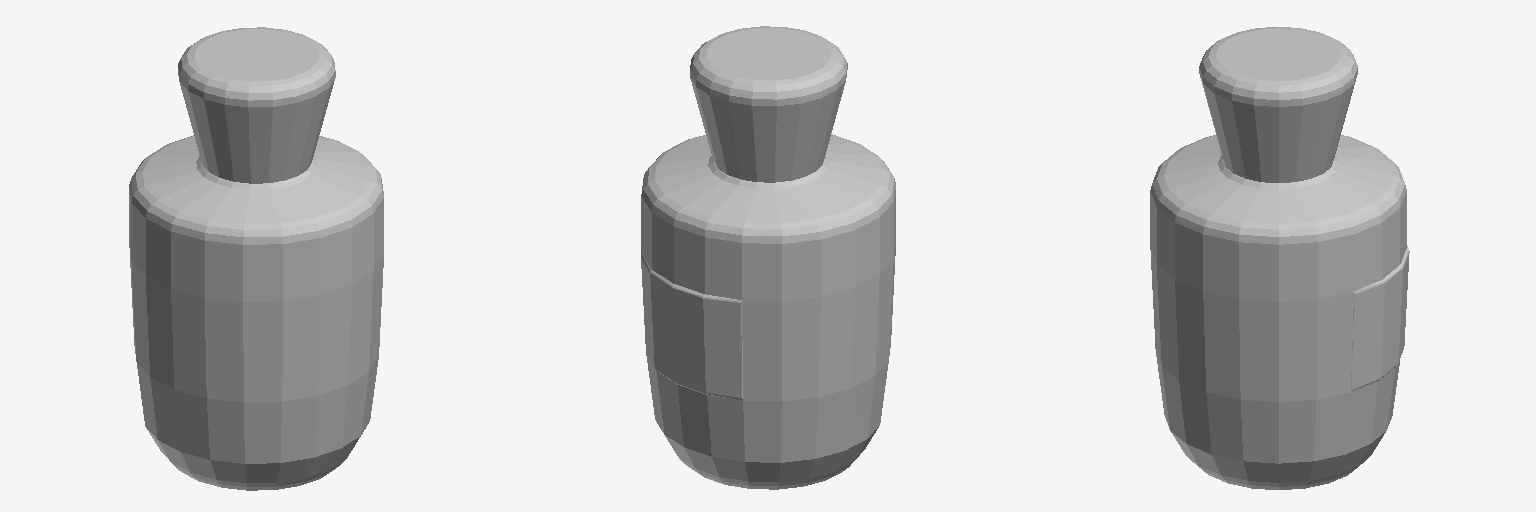
Rendered from Pote OG.obj.
3 views of the same model, side by side, from view 1: azimuth 30°, elevation 25°; view 2: azimuth 150°, elevation 25°; view 3: azimuth 270°, elevation 25° (orthographic).
Parts seen in each view (by area): view 1: g Pote_Low:Pote_Low polySurface2_Pote_Low:Pote_Low polySurface2, g polySurface1 Pote_Low:Pote_Low_polySurface1 Pote_Low:Pote_Low; view 2: g Pote_Low:Pote_Low polySurface2_Pote_Low:Pote_Low polySurface2, g polySurface1 Pote_Low:Pote_Low_polySurface1 Pote_Low:Pote_Low; view 3: g Pote_Low:Pote_Low polySurface2_Pote_Low:Pote_Low polySurface2, g polySurface1 Pote_Low:Pote_Low_polySurface1 Pote_Low:Pote_Low.
Boxes of the visible parts, x1=… form: g Pote_Low:Pote_Low polySurface2_Pote_Low:Pote_Low polySurface2: x1=129, y1=135, x2=383, y2=490; g polySurface1 Pote_Low:Pote_Low_polySurface1 Pote_Low:Pote_Low: x1=178, y1=27, x2=335, y2=183; g Pote_Low:Pote_Low polySurface2_Pote_Low:Pote_Low polySurface2: x1=641, y1=134, x2=895, y2=489; g polySurface1 Pote_Low:Pote_Low_polySurface1 Pote_Low:Pote_Low: x1=690, y1=26, x2=847, y2=182; g Pote_Low:Pote_Low polySurface2_Pote_Low:Pote_Low polySurface2: x1=1150, y1=135, x2=1409, y2=489; g polySurface1 Pote_Low:Pote_Low_polySurface1 Pote_Low:Pote_Low: x1=1199, y1=27, x2=1357, y2=182.
Bounding box in the file's own units: 10.88 × 18.84 × 11.